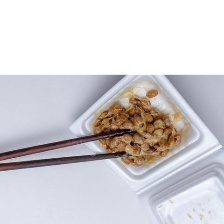foam_box: (64, 75, 224, 224)
